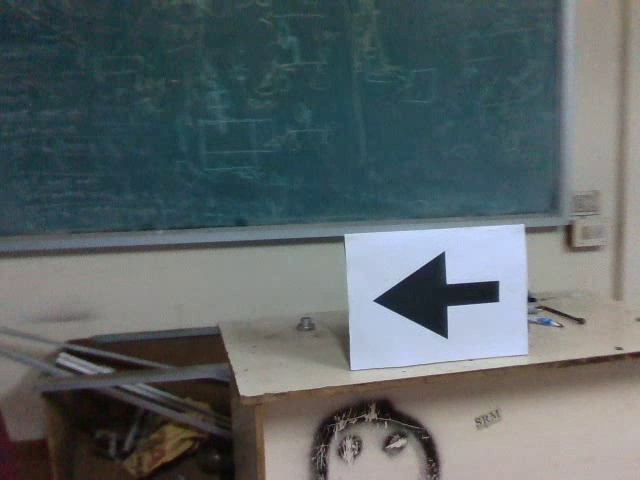Left: (371, 244, 504, 343)
